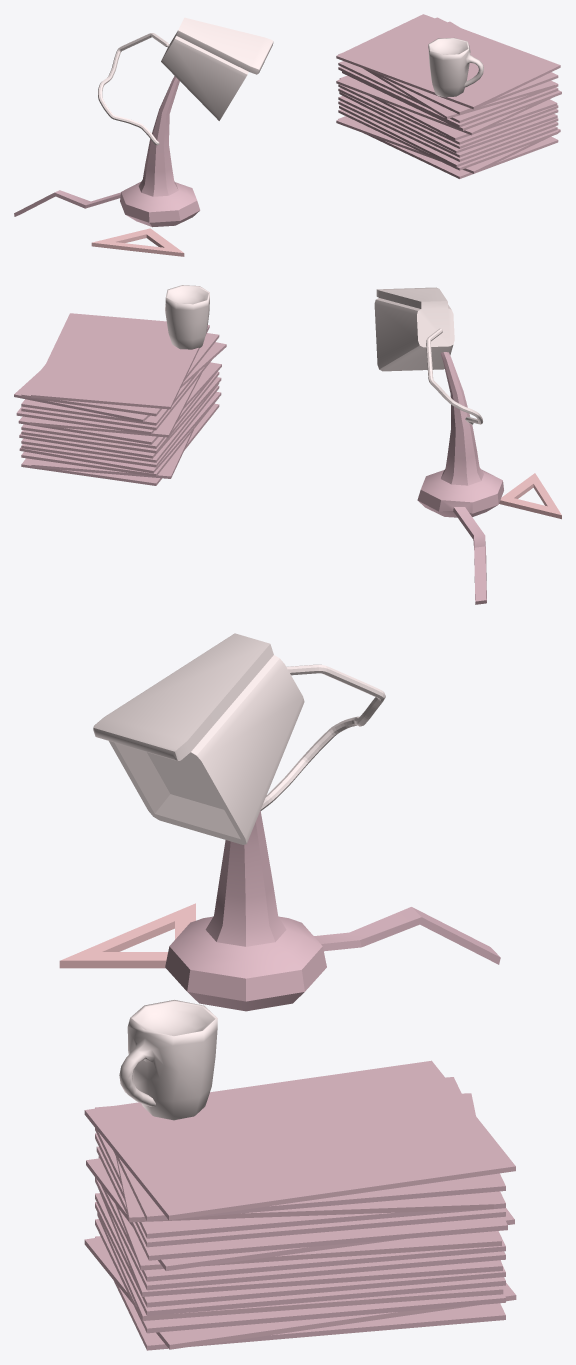
File: deskprinterCLUTTER.fbx
3 renders of one model, top to bottom at view 1: azimuth 30°, elevation 25°; view 2: azimuth 150°, elevation 25°; view 3: azimuth 270°, elevation 25°, orthographic. The views are drawn at different scales.
Parts seen in each view (by area): view 1: Plane.021, Cylinder.005, Cube.001, Cube.005, Plane.009, Cube.002; view 2: Plane.021, Cube.001, Cylinder.005, Cube.005, Plane.009, Cube.002; view 3: Plane.021, Cylinder.005, Cube.001, Cube.005, Plane.009, Cube.002.
Boxes of the visible parts, <box> form: Plane.021: <box>336,14,561,178</box>; Cylinder.005: <box>161,17,273,120</box>; Cube.001: <box>14,76,200,227</box>; Cube.005: <box>428,37,483,97</box>; Plane.009: <box>91,228,184,256</box>; Cube.002: <box>98,33,169,145</box>; Plane.021: <box>14,313,226,485</box>; Cube.001: <box>417,352,503,604</box>; Cylinder.005: <box>374,287,454,371</box>; Cube.005: <box>165,285,209,349</box>; Plane.009: <box>499,473,561,519</box>; Cube.002: <box>426,328,482,424</box>; Plane.021: <box>84,1060,516,1350</box>; Cylinder.005: <box>93,633,304,844</box>; Cube.001: <box>165,810,500,1011</box>; Cube.005: <box>119,1000,217,1120</box>; Plane.009: <box>59,903,195,968</box>; Cube.002: <box>260,664,385,810</box>.
Bounding box in the file's own units: 817 × 356 × 346.
